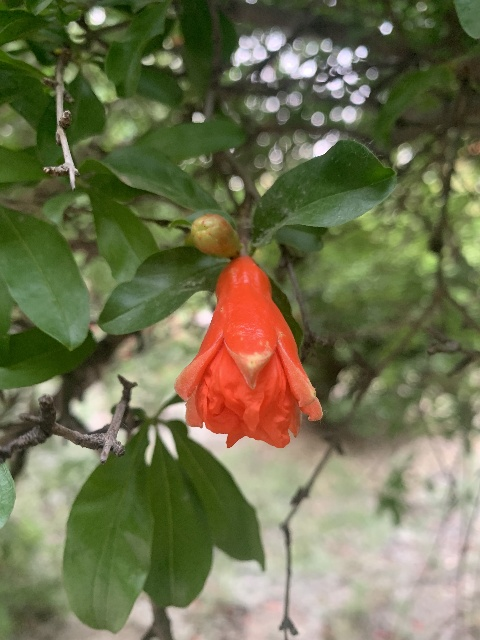bud: (187, 213, 239, 257)
flower: (175, 254, 320, 450)
